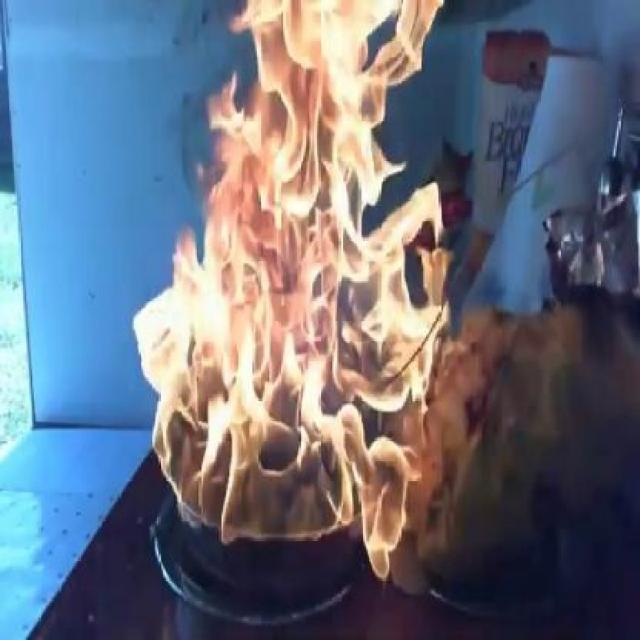fire: (145, 307, 427, 576), (215, 5, 440, 313)
